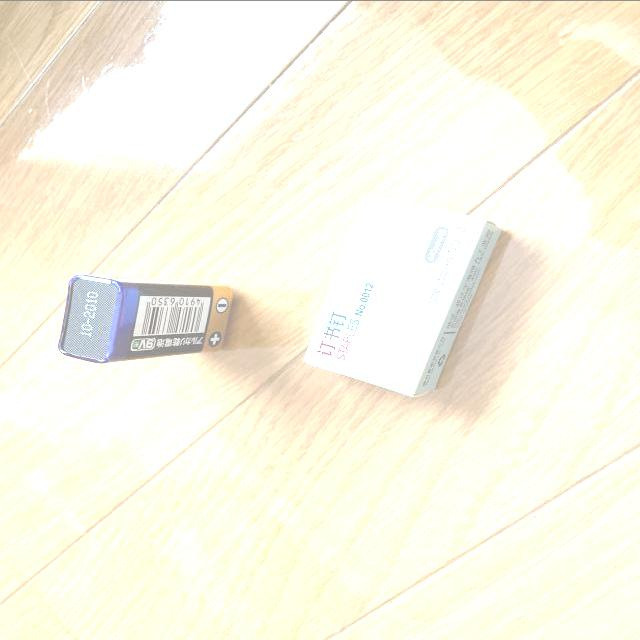9V: (57, 272, 237, 363)
